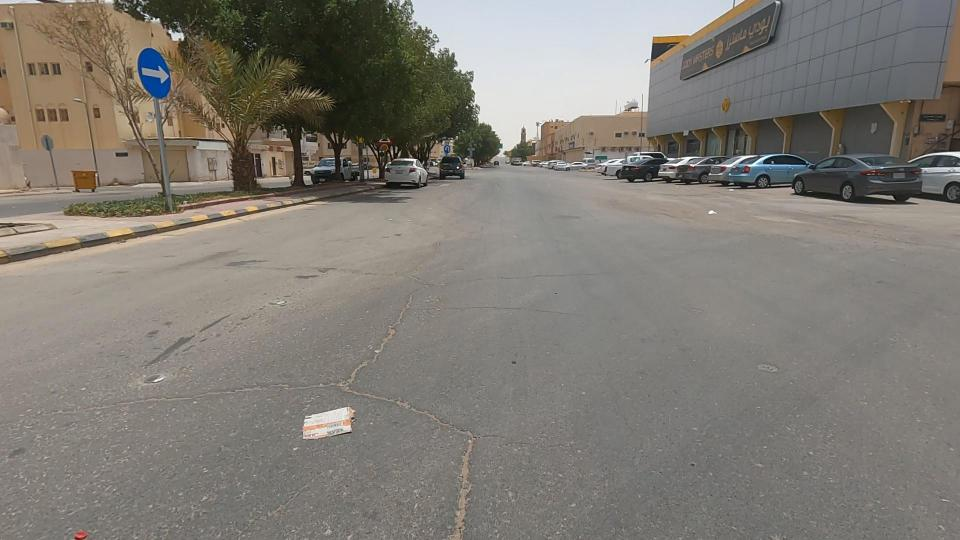GARBAGE: (271, 374, 372, 471), (689, 188, 728, 246)
POTHOLES: (293, 245, 474, 503)
